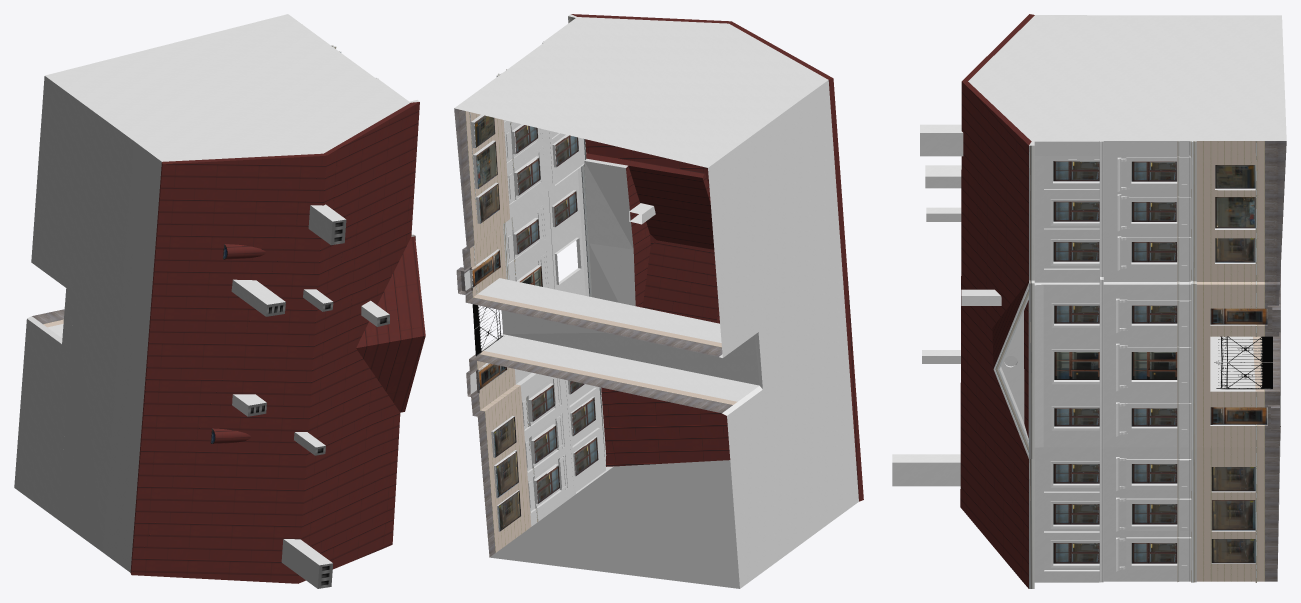
File: Vana_Viru_3.obj
3 renders of one model, left to right at view 1: azimuth 30°, elevation 25°; view 2: azimuth 150°, elevation 25°; view 3: azimuth 270°, elevation 25°, orthographic. The views are drawn at different scales.
Parts seen in each view (by area): view 1: Vana_Viru_3; view 2: Vana_Viru_3; view 3: Vana_Viru_3.
Part boxes in pixels (x1,y1,x2,y2): Vana_Viru_3: [14, 14, 425, 588]; Vana_Viru_3: [454, 14, 863, 588]; Vana_Viru_3: [892, 14, 1286, 588].
Size of the model in its own units: 16.79 by 24.34 by 19.02.
